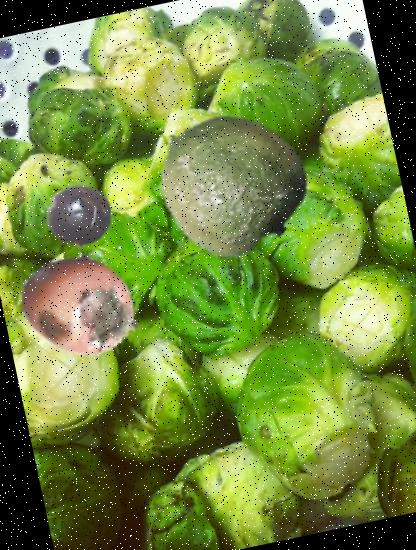Kaki: (9, 232, 153, 376)
Limes: (144, 96, 316, 269)
Passion: (40, 177, 119, 256)
